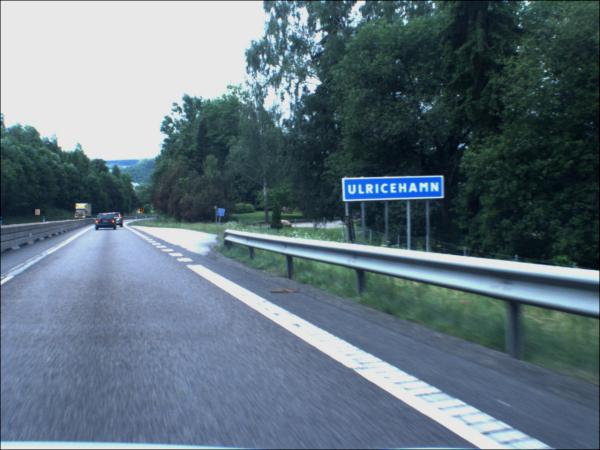80_SIGN: (36, 210, 42, 217), (141, 209, 145, 214)
